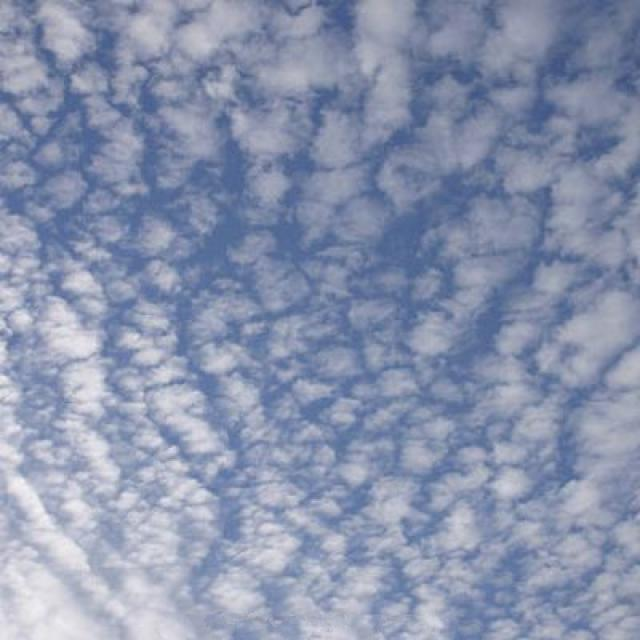Cc: (1, 25, 640, 569)
